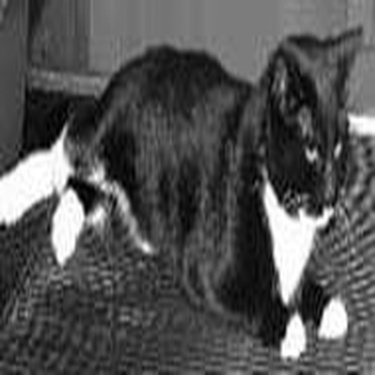cat: (3, 23, 362, 359)
